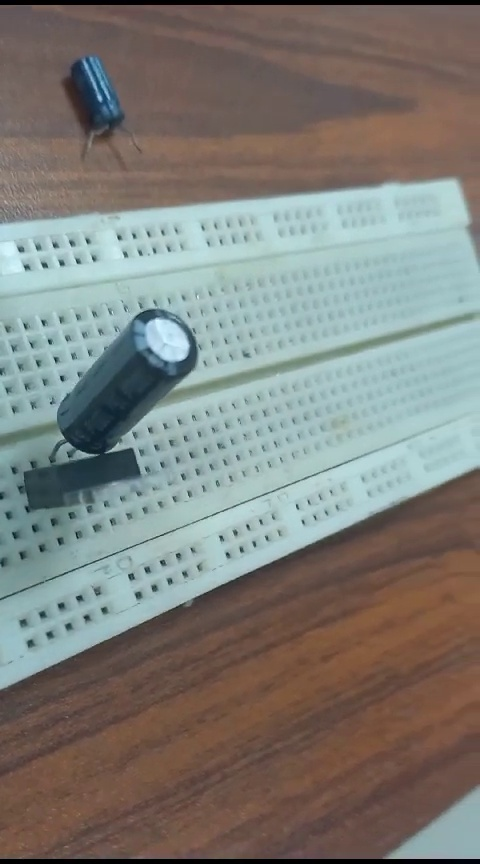capacitor: (54, 289, 196, 445), (60, 45, 143, 161)
voltage regulator: (23, 453, 164, 516)
